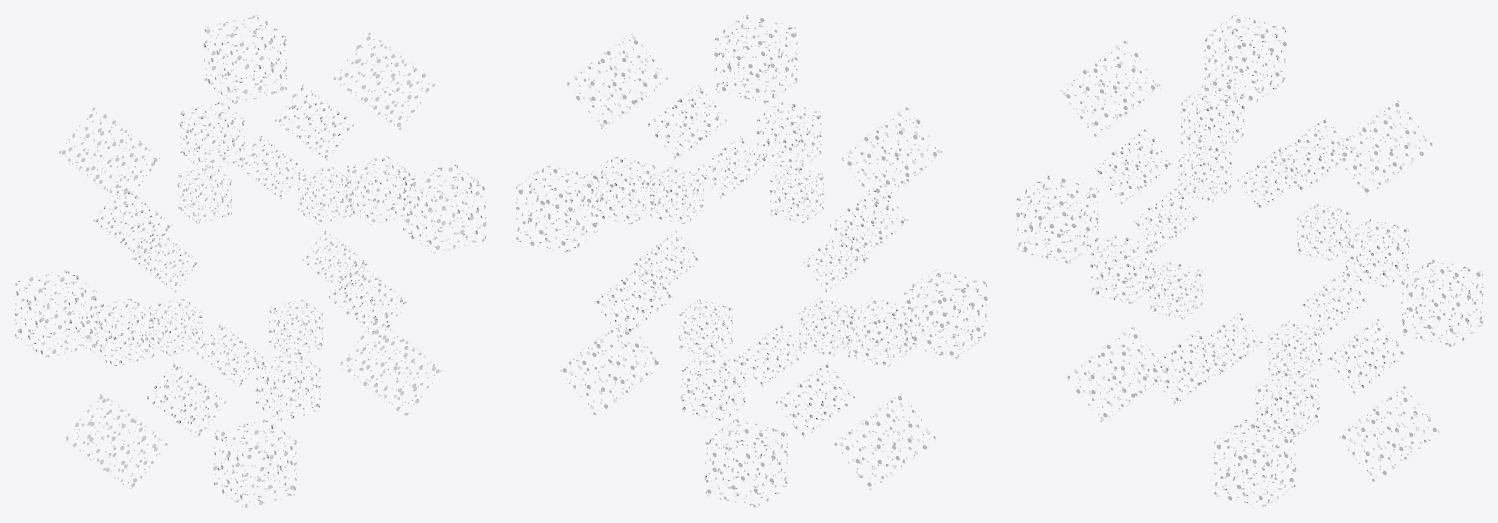
3 renders of one model, left to right at view 1: azimuth 30°, elevation 25°; view 2: azimuth 150°, elevation 25°; view 3: azimuth 330°, elevation 25°, orthographic.
Visible parts, largest first — view 1: cube.020, cube.018, cube.022, cube.024, cube.019, cube.017, cube.023, cube.021, cube.011, cube.009, cube.015, cube.013 (+8 smaller); view 2: cube.024, cube.022, cube.020, cube.018, cube.023, cube.021, cube.019, cube.017, cube.015, cube.011, cube.013, cube.009 (+8 smaller); view 3: cube.022, cube.018, cube.024, cube.020, cube.023, cube.021, cube.019, cube.017, cube.013, cube.009, cube.011, cube.015 (+8 smaller).
Part boxes in pixels (x1,y1,x2,y2): cube.020: (213, 419, 296, 507); cube.018: (403, 164, 486, 253); cube.022: (14, 270, 97, 357); cube.024: (203, 15, 286, 103); cube.019: (340, 319, 441, 415); cube.017: (333, 33, 434, 129); cube.023: (59, 107, 159, 204); cube.021: (66, 394, 167, 488); cube.011: (255, 352, 320, 421); cube.009: (346, 156, 411, 225); cube.015: (179, 102, 244, 170); cube.013: (90, 298, 154, 366); cube.024: (714, 15, 797, 103); cube.022: (904, 269, 987, 358); cube.020: (704, 419, 787, 507); cube.018: (515, 165, 598, 252); cube.023: (841, 107, 942, 203); cube.021: (834, 393, 935, 489); cube.019: (560, 320, 660, 415); cube.017: (567, 34, 668, 128); cube.015: (756, 101, 821, 170); cube.011: (680, 352, 745, 420); cube.013: (847, 297, 912, 366); cube.009: (590, 156, 655, 224); cube.022: (1016, 175, 1098, 263); cube.018: (1401, 259, 1483, 346); cube.024: (1204, 15, 1286, 102); cube.020: (1213, 419, 1296, 506); cube.023: (1061, 41, 1160, 136); cube.021: (1067, 327, 1167, 421); cube.019: (1339, 386, 1439, 481); cube.017: (1332, 100, 1432, 195); cube.013: (1090, 235, 1154, 303); cube.009: (1345, 219, 1409, 287); cube.011: (1255, 369, 1319, 436); cube.015: (1180, 85, 1244, 153).
Bounding box in the file's own units: 22.72 × 22.72 × 2.74.
Materials: 24 (24 with a texture image).
